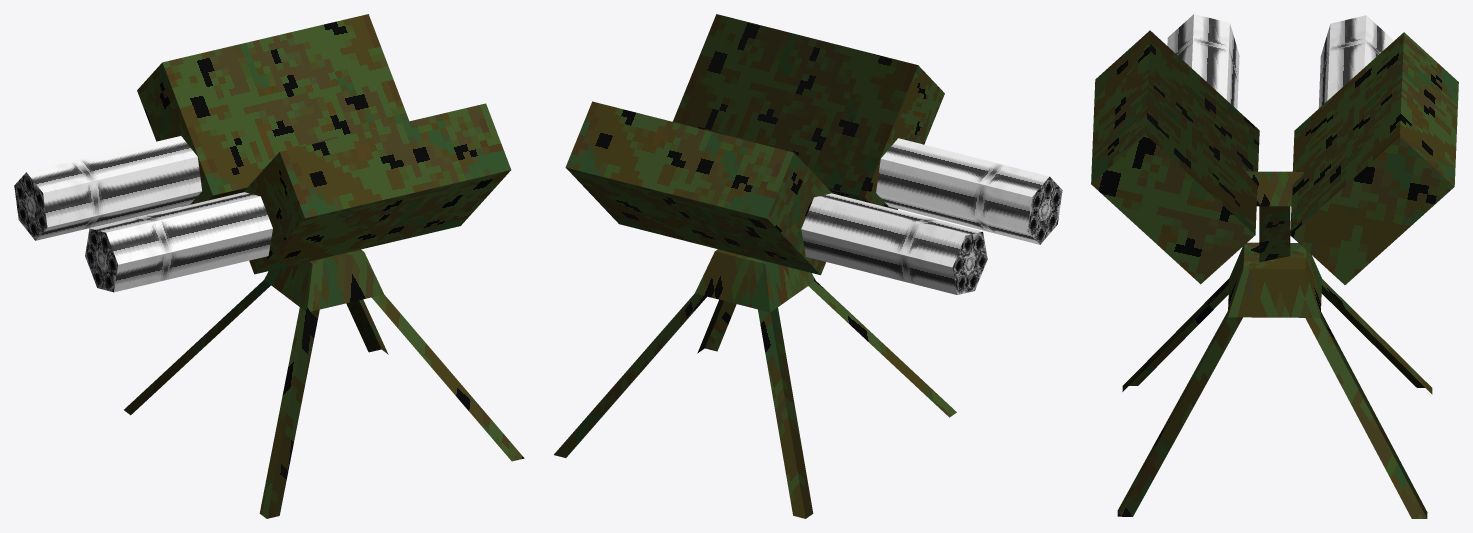
File: primary_21.glb
3 renders of one model, left to right at view 1: azimuth 30°, elevation 25°; view 2: azimuth 150°, elevation 25°; view 3: azimuth 270°, elevation 25°, orthographic. The views are drawn at different scales.
Parts seen in each view (by area): view 1: Object; view 2: Object; view 3: Object.
Part boxes in pixels (x1,y1,x2,y2): Object: (14, 14, 524, 518); Object: (554, 14, 1062, 518); Object: (1091, 14, 1458, 518).
Bounding box in the file's own units: 1.71 × 1.49 × 1.34.
4 materials, 4 textured.
